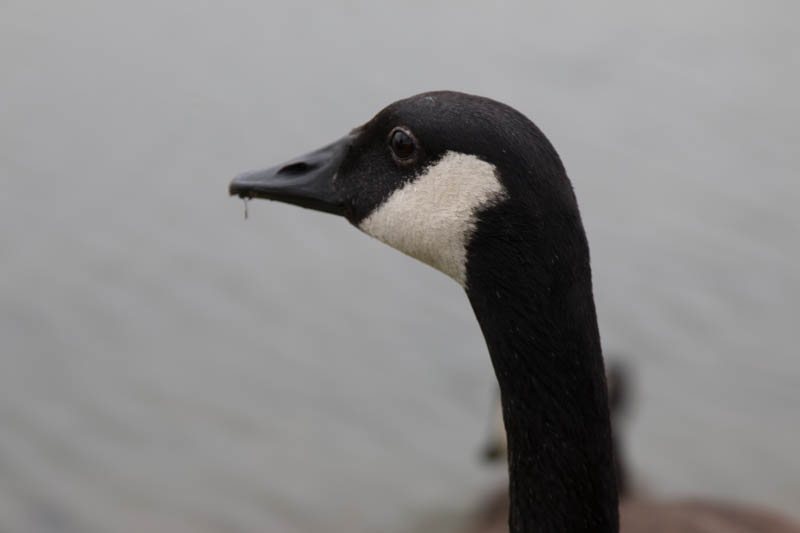goose-head: (228, 91, 593, 297)
